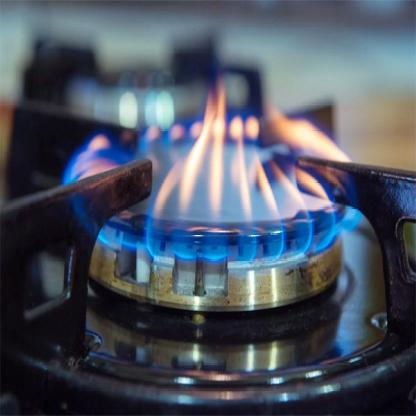fire: (62, 83, 366, 279)
